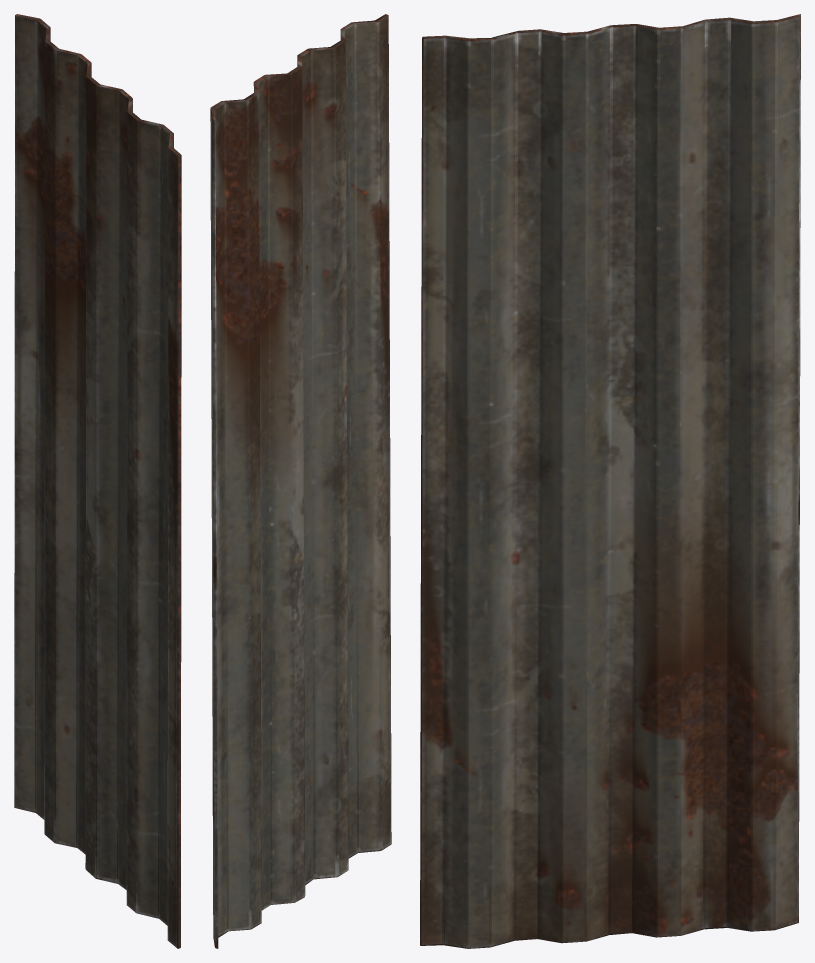
Rendered from SM_Corrugated_02.fbx.
3 views of the same model, side by side, from view 1: azimuth 30°, elevation 25°; view 2: azimuth 150°, elevation 25°; view 3: azimuth 270°, elevation 25° (orthographic). The views are drawn at different scales.
Parts seen in each view (by area): view 1: SM_Corrugated_02_LOD0; view 2: SM_Corrugated_02_LOD0; view 3: SM_Corrugated_02_LOD0.
Boxes of the visible parts, x1,y1,x2,y2 form: SM_Corrugated_02_LOD0: [14, 14, 181, 948]; SM_Corrugated_02_LOD0: [210, 14, 391, 948]; SM_Corrugated_02_LOD0: [420, 14, 800, 948].
Bounding box in the file's own units: 6.13 × 97.17 × 263.
1 material, 1 textured.
